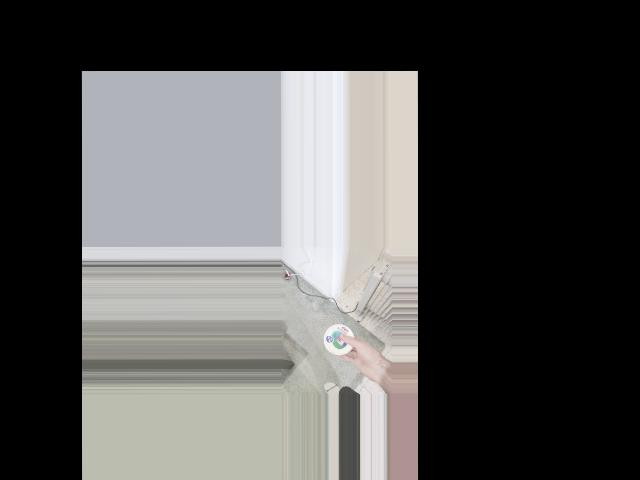cotage: (325, 325, 354, 354)
